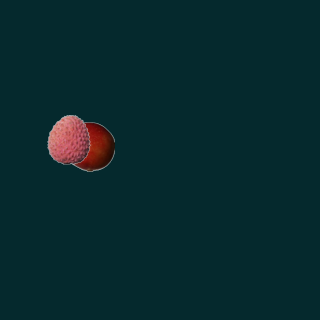Apple Braeburn: (64, 121, 114, 171)
Lychee: (43, 114, 93, 164)
